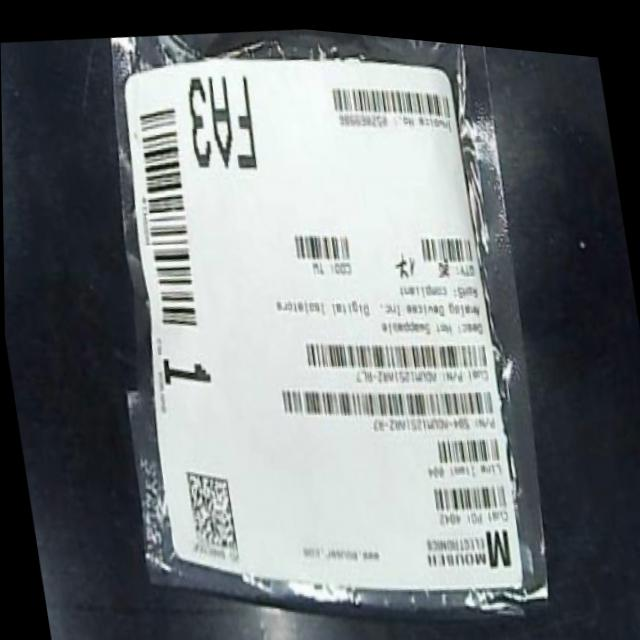datamatrix: (180, 458, 241, 562)
